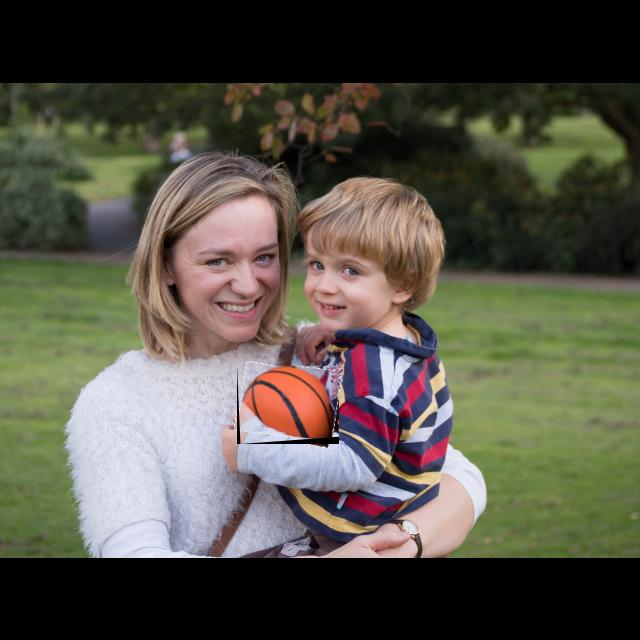Football: (237, 366, 339, 444)
